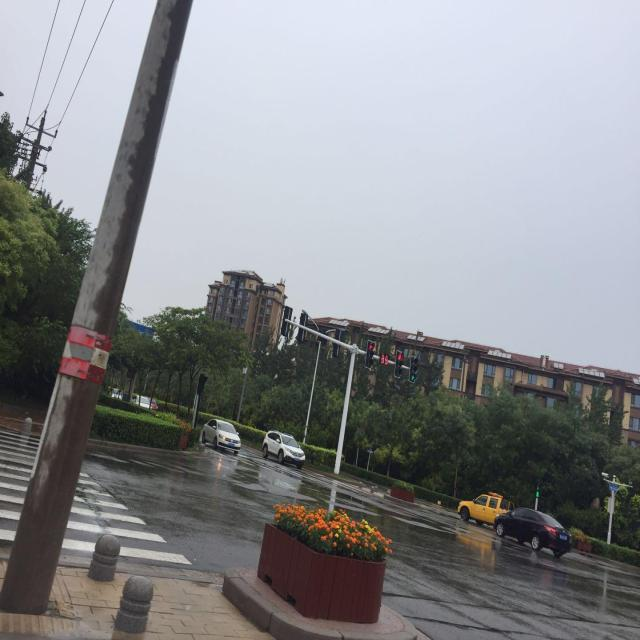car: (494, 504, 574, 557), (260, 432, 304, 469), (201, 417, 243, 452), (457, 490, 492, 527), (130, 394, 154, 414)
